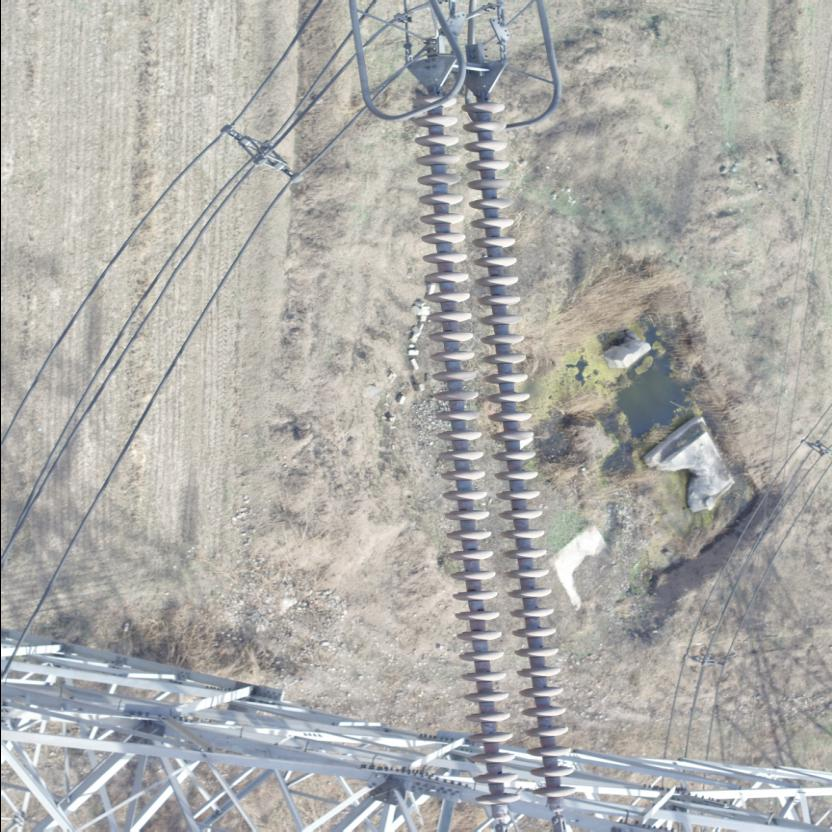insulator: (411, 77, 579, 832)
